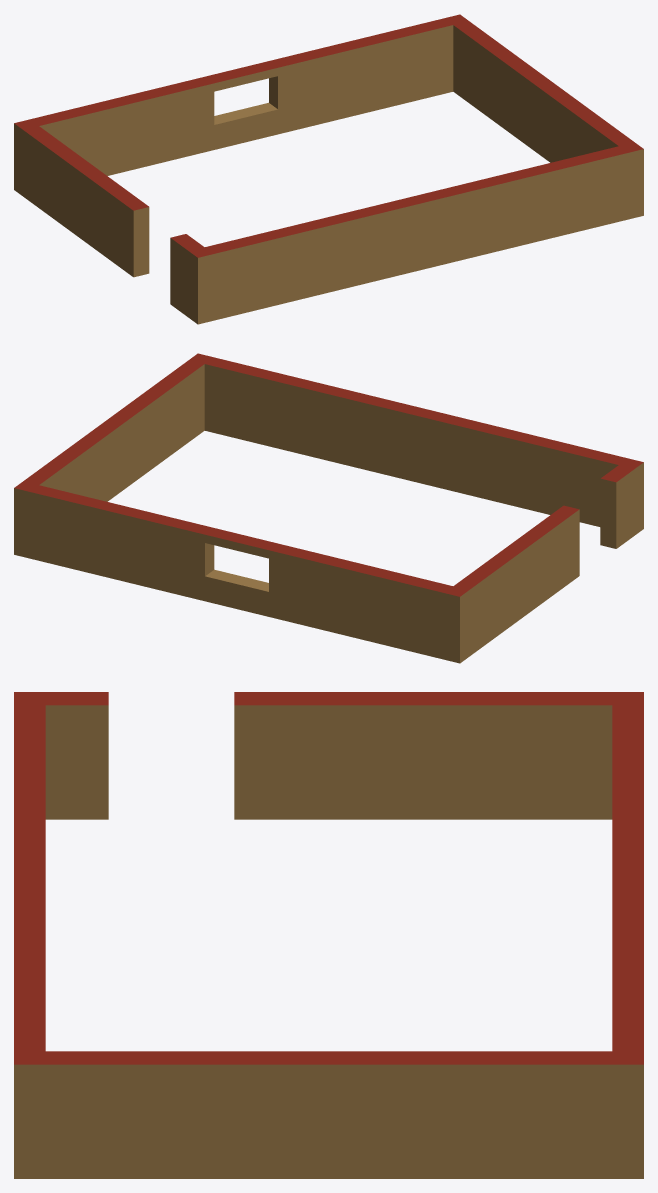
File: Room.fbx
The picture shows the model from 3 angles, top to bottom: view 1: azimuth 30°, elevation 25°; view 2: azimuth 150°, elevation 25°; view 3: azimuth 270°, elevation 25°; orthographic projection. The views are drawn at different scales.
Visible parts, largest first — view 1: Room; view 2: Room; view 3: Room.
Boxes of the visible parts, bbox=[...] form: Room: bbox=[14, 14, 643, 324]; Room: bbox=[14, 353, 643, 663]; Room: bbox=[14, 692, 643, 1178].
Size of the model in its own units: 2800 by 400 by 2000.
